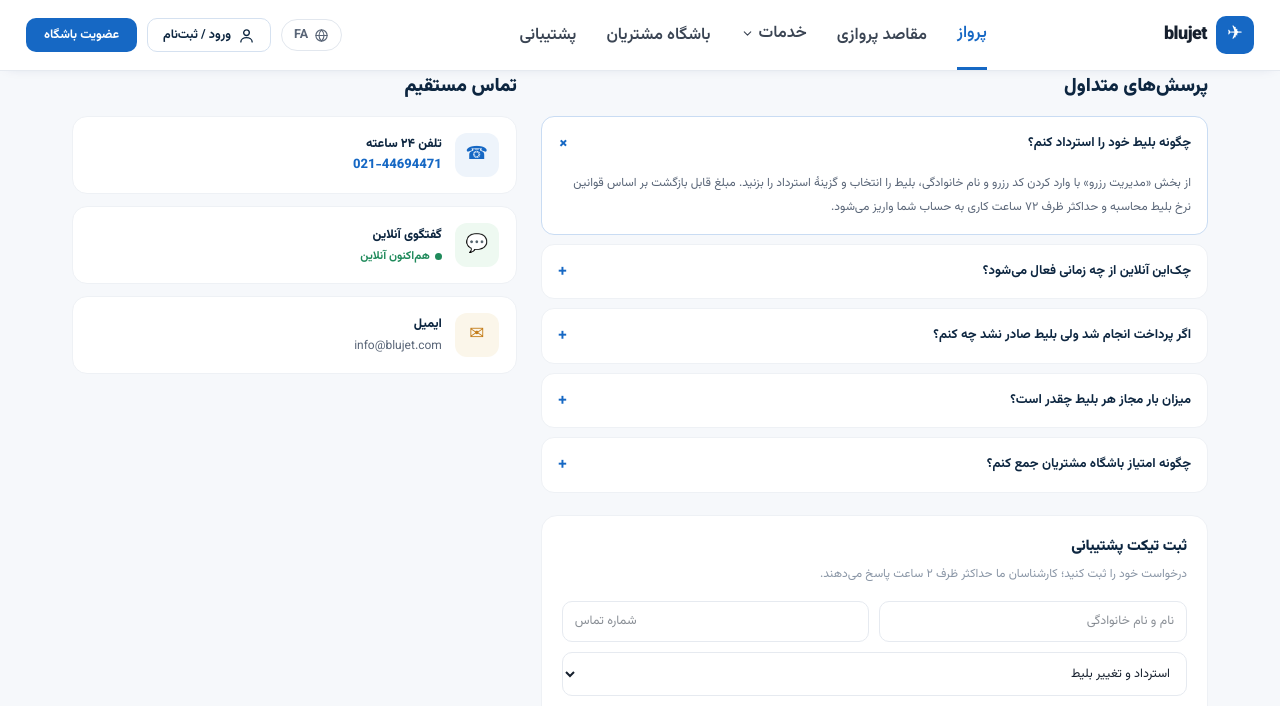
Scenario: SupportPage › renders FAQ accordion and toggles answers
(page scrolled)
Expected: the text "info@blujet.com" is shown, x1=354 y1=337 x2=442 y2=355
Expected: the text "از بخش «مدیریت رزرو» با وارد کردن کد رزرو" is shown, x1=573 y1=174 x2=1191 y2=216
Click the text "میزان بار مجاز هر بلیط چقدر است؟".
click(1101, 401)  # box x1=1010 y1=391 x2=1191 y2=410
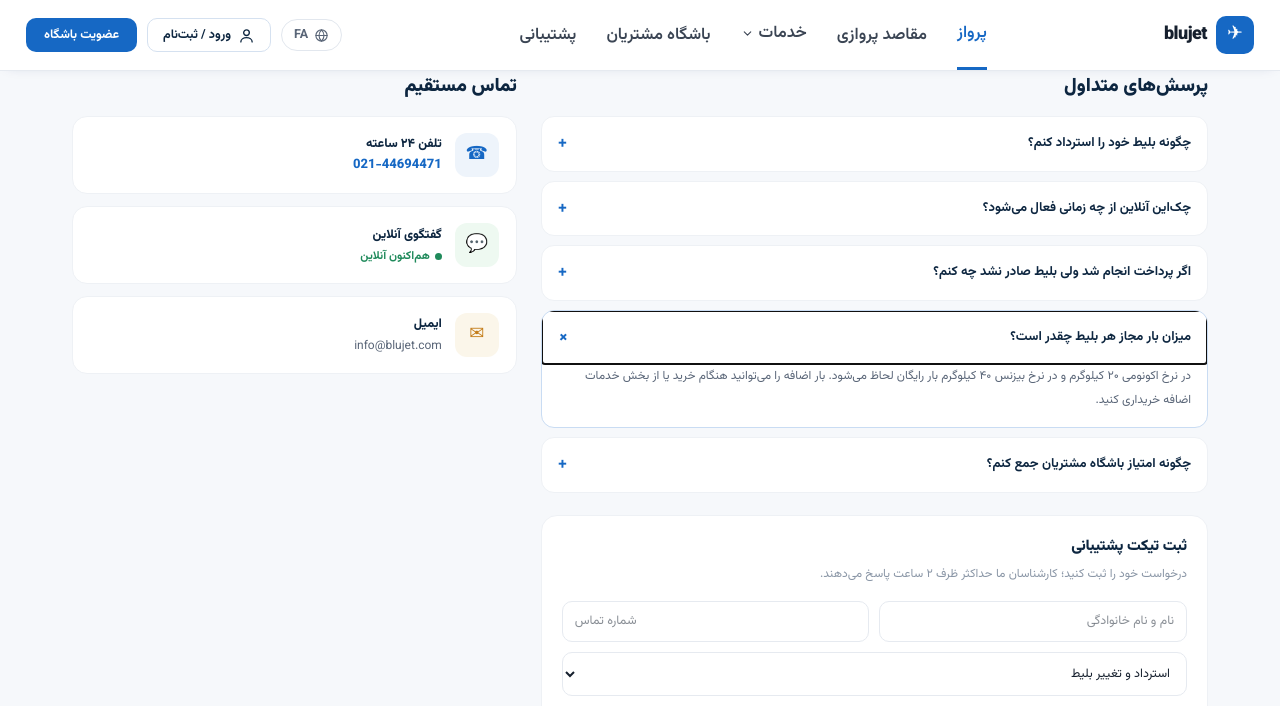
Expected: the text "در نرخ اکونومی ۲۰ کیلوگرم" is shown, x1=585 y1=367 x2=1191 y2=409
